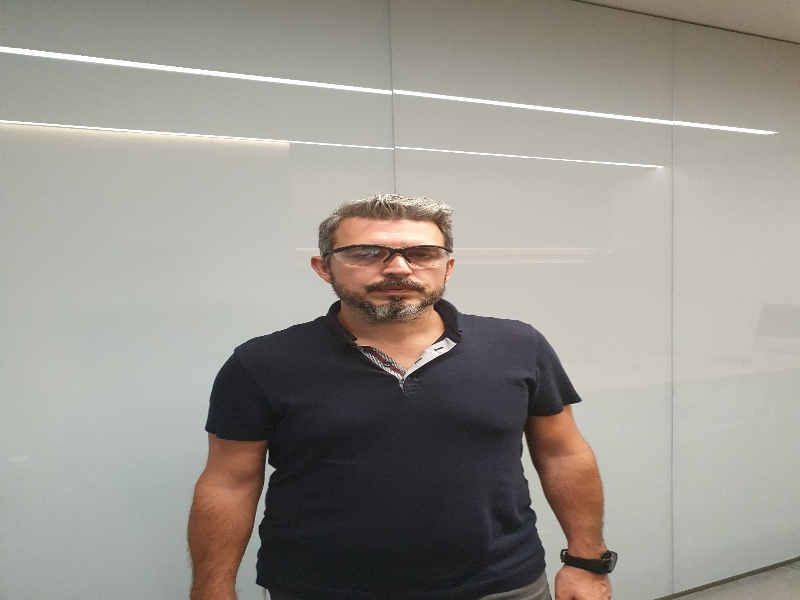Gozluk: (324, 244, 452, 267)
